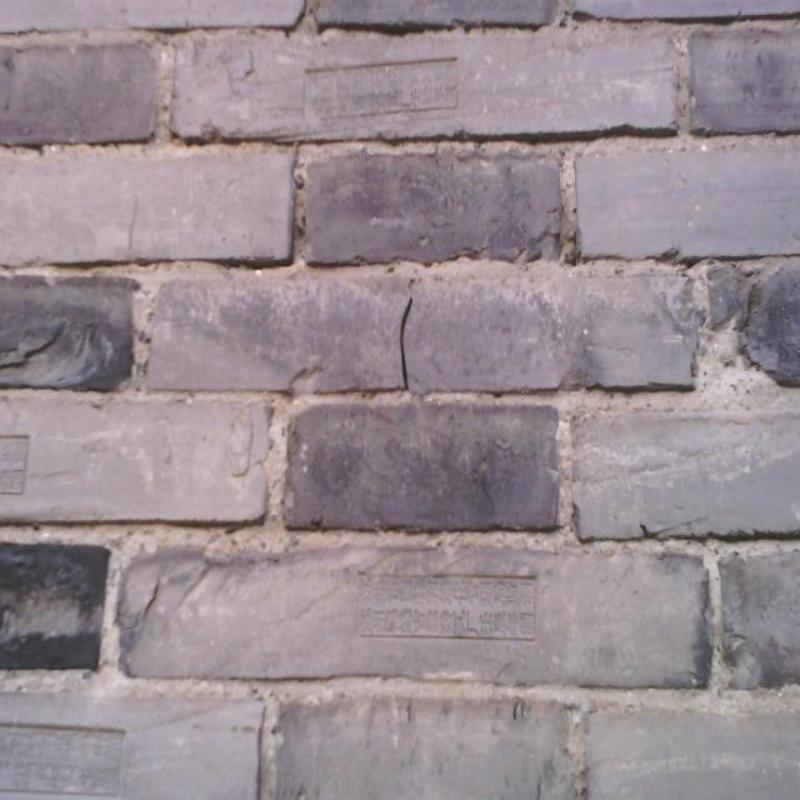crack: (400, 296, 412, 389), (128, 198, 138, 259)
